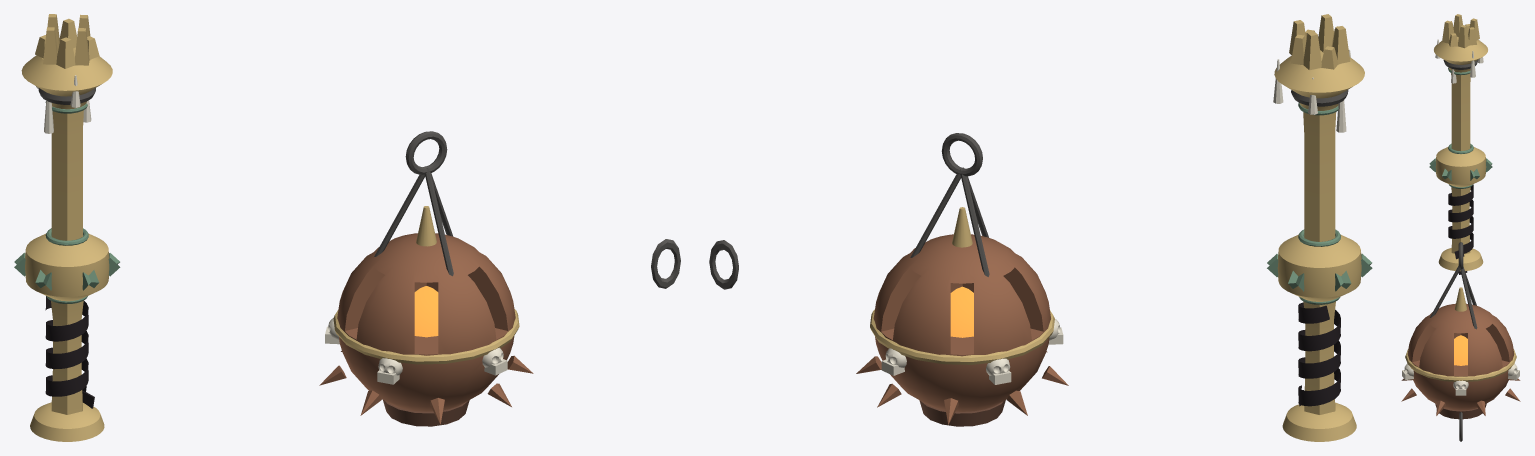
File: censer.glb
The picture shows the model from 3 angles, left to right: view 1: azimuth 30°, elevation 25°; view 2: azimuth 150°, elevation 25°; view 3: azimuth 270°, elevation 25°; orthographic projection. The views are drawn at different scales.
Visible parts, largest first — view 1: Head, Haft, CoalGlow, ChainLink; view 2: Head, Haft, CoalGlow, ChainLink; view 3: Head, Haft, CoalGlow.
Boxes of the visible parts, box(x1,y1,x2,y2) form: Head: box(319, 131, 533, 426); Haft: box(14, 14, 120, 441); CoalGlow: box(414, 286, 438, 337); ChainLink: box(651, 239, 680, 288); Head: box(856, 133, 1068, 426); Haft: box(1267, 14, 1372, 441); CoalGlow: box(950, 286, 973, 337); ChainLink: box(709, 240, 738, 289); Head: box(1401, 242, 1520, 419); Haft: box(1429, 14, 1492, 274); CoalGlow: box(1454, 335, 1467, 365).
Size of the model in its own units: 0.5481 by 0.3787 by 0.1448.
